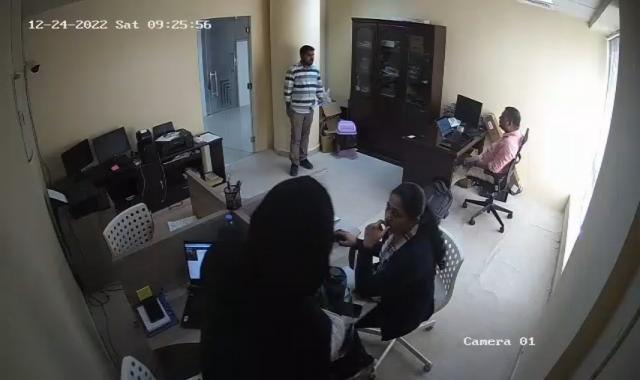no_hairnet: (263, 177, 331, 266), (382, 182, 424, 232), (497, 106, 521, 132), (299, 44, 315, 64)
